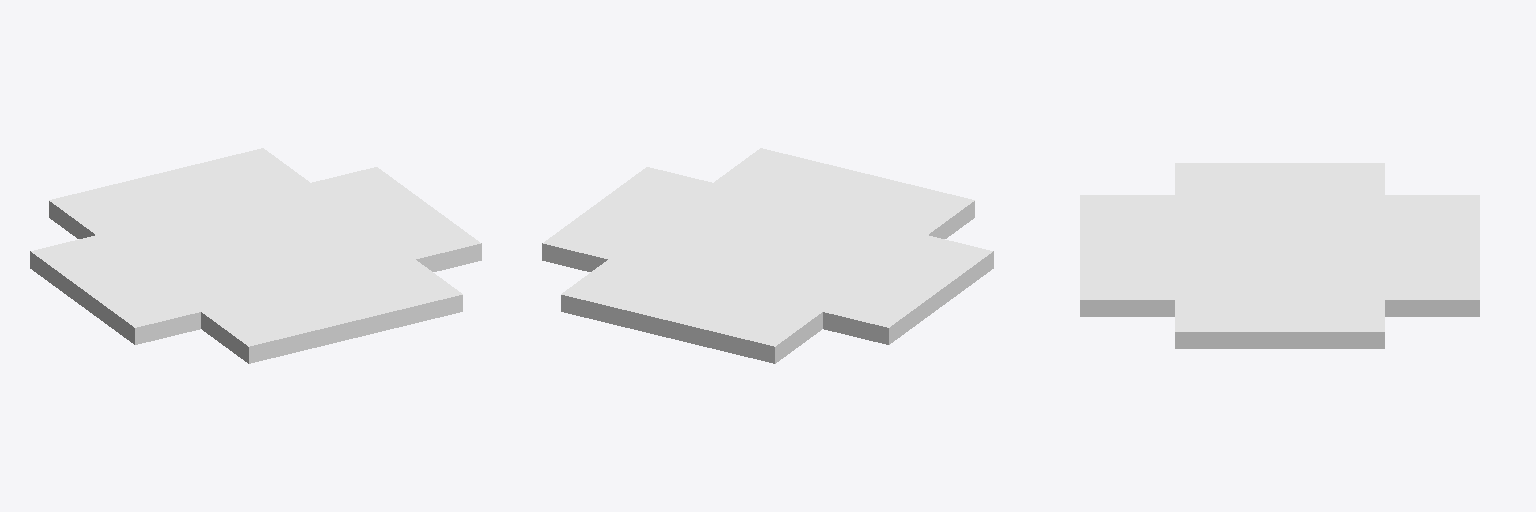
The model's file is rotacao.obj.
3 renders of one model, left to right at view 1: azimuth 30°, elevation 25°; view 2: azimuth 150°, elevation 25°; view 3: azimuth 270°, elevation 25°, orthographic.
Visible parts, largest first — view 1: rotacao; view 2: rotacao; view 3: rotacao.
Part boxes in pixels (x1,y1,x2,y2): rotacao: (30, 148, 481, 363); rotacao: (542, 148, 993, 363); rotacao: (1080, 163, 1479, 348).
Size of the model in its own units: 21 by 1 by 21.